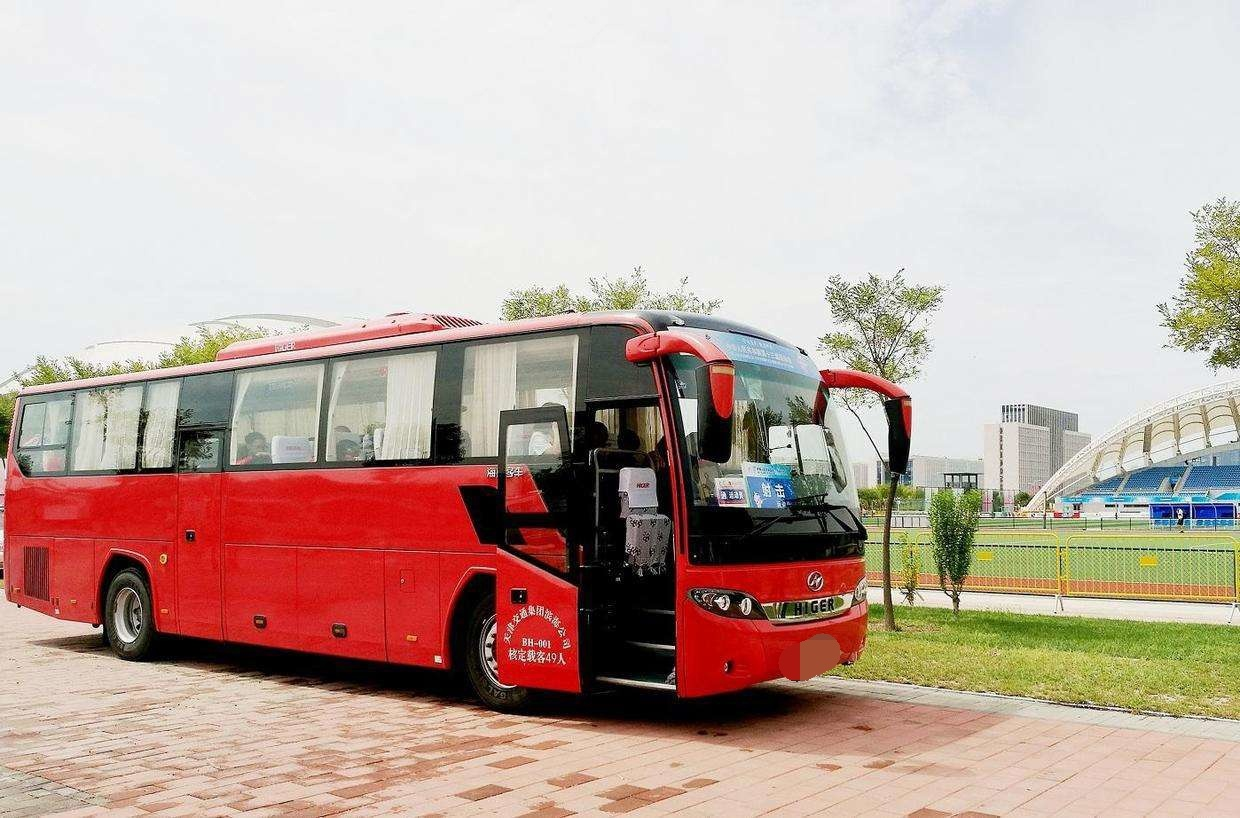bus: (6, 305, 919, 714)
